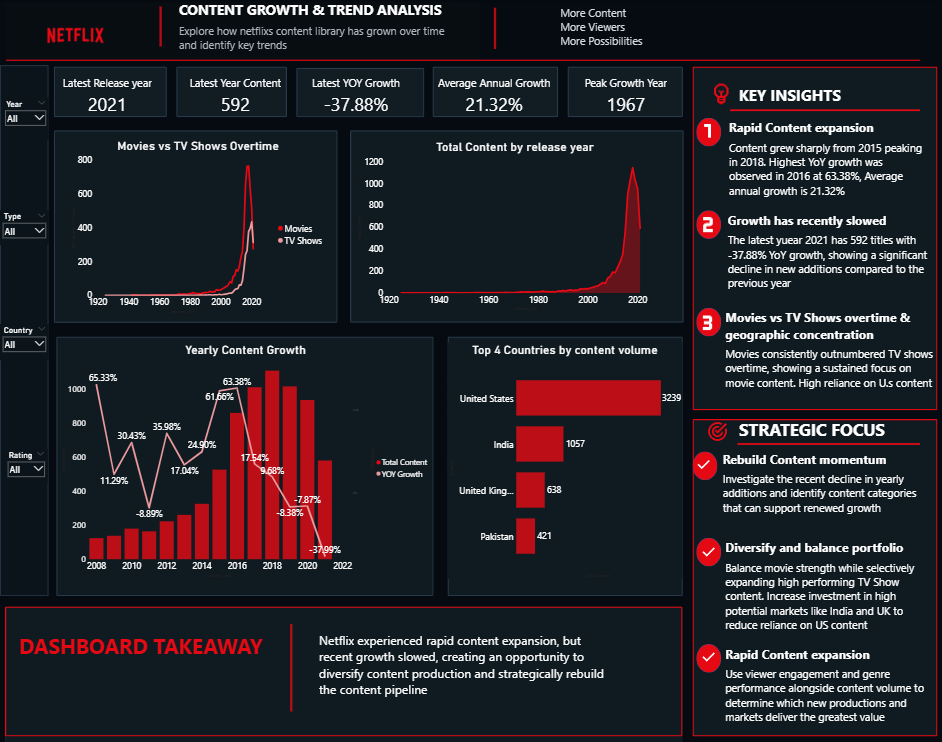

The dashboard page shown, as its layout file describes it:
{"tool":"powerbi","page":{"name":"Task 3","canvas":[2950,1450],"ordinal":1},"visuals":[{"type":"shape","box":[18.1,10.1,1656.8,205.1],"z":0},{"type":"shape","box":[0,227.7,167.6,1220.7],"z":1000},{"type":"shape","box":[189.8,234,452.2,170.8],"z":2000},{"type":"shape","box":[189.8,430.1,2163.2,594.6],"z":3000},{"type":"shape","box":[189.8,1046.8,2710.3,376.3],"z":4000},{"type":"shape","box":[2381.4,430.1,518.7,594.6],"z":5000},{"type":"shape","box":[746.4,234,483.9,170.8],"z":6000},{"type":"shape","box":[1334.6,237.2,490.2,167.6],"z":7000},{"type":"shape","box":[1929.1,234,445.9,170.8],"z":8000},{"type":"shape","box":[2479.4,237.2,408,167.6],"z":9000},{"type":"shape","box":[19,164.5,2868.4,101.2],"z":10000},{"type":"image","box":[0,0,328.9,215.1],"z":11000},{"type":"textbox","box":[357.7,31.7,1158.7,164.6],"z":12000},{"type":"textbox","box":[1693.8,25.3,516,167.8],"z":13000},{"type":"shape","box":[207.5,25.9,242.9,141.5],"z":14000},{"type":"shape","box":[1478.5,25.3,240.6,142.5],"z":15000},{"type":"cardVisual","fields":{"Data":["Keymetrics.Total Content"]},"box":[303.6,230.9,259.3,158.1],"z":16000},{"type":"cardVisual","fields":{"Data":["Keymetrics.Movies"]},"box":[828.6,227.7,313.1,164.5],"z":17000},{"type":"cardVisual","fields":{"Data":["Keymetrics.TV Shows"]},"box":[1413.7,230.9,262.5,158.1],"z":18000},{"type":"cardVisual","fields":{"Data":["Keymetrics.Countries"]},"box":[1992.4,230.9,262.5,158.1],"z":19000},{"type":"cardVisual","fields":{"Data":["Keymetrics.Total Directors"]},"box":[2574.3,234,265.7,155],"z":20000},{"type":"tableEx","title":"Top  Countries","fields":{"Values":["Dataset.country","Keymetrics.Total Content"]},"box":[2381.4,449.1,506,575.6],"z":21000},{"type":"slicer","fields":{"Values":["Dataset.release_year"]},"box":[6.5,344.2,137.2,122],"z":22000},{"type":"slicer","fields":{"Values":["Dataset.Content Type"]},"box":[0,619.9,142.3,123.3],"z":23000},{"type":"slicer","fields":{"Values":["Dataset.rating"]},"box":[0,888.7,148.6,123.3],"z":24000},{"type":"image","box":[1378.9,253,79.1,94.9],"z":25000},{"type":"image","box":[759,262.5,148.6,85.4],"z":26000},{"type":"image","box":[227.7,262.5,79.1,82.2],"z":27000},{"type":"image","box":[1951.3,275.1,88.6,75.9],"z":28000},{"type":"image","box":[2501.6,268.8,98,79.1],"z":29000},{"type":"filledMap","title":"Content by Country (Global view)","fields":{"Category":["Dataset.Country"]},"box":[227.7,430.1,1688.8,581.9],"z":30000},{"type":"shape","box":[1992.4,676.8,41.1,19],"z":31000},{"type":"shape","box":[1992.4,619.9,41.1,19],"z":32000},{"type":"shape","box":[1992.4,600.9,41.1,19],"z":33000},{"type":"shape","box":[1992.4,581.9,41.1,19],"z":34000},{"type":"shape","box":[1992.4,562.9,41.1,22.1],"z":35000},{"type":"shape","box":[1992.4,553.4,41.1,19],"z":36000},{"type":"shape","box":[1992.4,534.5,41.1,19],"z":37000},{"type":"shape","box":[1992.4,638.8,41.1,19],"z":38000},{"type":"shape","box":[1992.4,657.8,41.1,19],"z":39000},{"type":"shape","box":[1992.4,695.8,41.1,22.1],"z":40000},{"type":"shape","box":[1992.4,717.9,41.1,19],"z":41000},{"type":"shape","box":[1992.4,736.9,41.1,19],"z":42000},{"type":"shape","box":[1992.4,755.8,41.1,19],"z":43000},{"type":"shape","box":[1992.4,774.8,41.1,19],"z":44000},{"type":"shape","box":[1992.4,910.8,41.1,19],"z":45000},{"type":"textbox","box":[1922.8,449.1,183.4,113.9],"z":46000},{"type":"textbox","box":[2099.9,525,186.6,113.9],"z":47000},{"type":"textbox","box":[2099.9,765.3,202.4,72.7],"z":48000},{"type":"textbox","box":[2065.1,888.7,208.7,104.4],"z":49000},{"type":"textbox","box":[319.4,1053.1,278.3,117],"z":50000},{"type":"textbox","box":[392.2,1135.3,468.1,287.8],"z":51000},{"type":"textbox","box":[1034.1,1135.3,509.2,287.8],"z":52000},{"type":"textbox","box":[1676.1,1110,480.7,338.4],"z":53000},{"type":"textbox","box":[2318.1,1113.2,575.6,306.8],"z":54000},{"type":"shape","box":[828.6,1094.2,243.5,262.5],"z":55000},{"type":"shape","box":[2084.1,1091.1,243.5,265.7],"z":56000},{"type":"shape","box":[1473.7,1094.2,243.5,262.5],"z":57000},{"type":"image","box":[234,1046.8,98,104.4],"z":58000},{"type":"image","box":[322.6,1113.2,69.6,104.4],"z":59000},{"type":"image","box":[951.9,1129,82.2,82.2],"z":60000},{"type":"image","box":[2229.6,1113.2,88.6,88.6],"z":61000},{"type":"image","box":[1600.2,1113.2,88.6,88.6],"z":62000}]}

Visuals, with their boxes on the page's 2950x1450 design canvas (x1, y1, x2, y2). These are canvas units, not pixel positions in the 942x742 screenshot, which may show the page scaled, cropped or inside an application window:
shape: crop(18, 10, 1675, 215)
shape: crop(0, 228, 168, 1448)
shape: crop(190, 234, 642, 405)
shape: crop(190, 430, 2353, 1025)
shape: crop(190, 1047, 2900, 1423)
shape: crop(2381, 430, 2900, 1025)
shape: crop(746, 234, 1230, 405)
shape: crop(1335, 237, 1825, 405)
shape: crop(1929, 234, 2375, 405)
shape: crop(2479, 237, 2887, 405)
shape: crop(19, 164, 2887, 266)
image: crop(0, 0, 329, 215)
textbox: crop(358, 32, 1516, 196)
textbox: crop(1694, 25, 2210, 193)
shape: crop(208, 26, 450, 167)
shape: crop(1478, 25, 1719, 168)
cardVisual - Keymetrics.Total Content: crop(304, 231, 563, 389)
cardVisual - Keymetrics.Movies: crop(829, 228, 1142, 392)
cardVisual - Keymetrics.TV Shows: crop(1414, 231, 1676, 389)
cardVisual - Keymetrics.Countries: crop(1992, 231, 2255, 389)
cardVisual - Keymetrics.Total Directors: crop(2574, 234, 2840, 389)
"Top  Countries" tableEx: crop(2381, 449, 2887, 1025)
slicer - Dataset.release_year: crop(6, 344, 144, 466)
slicer - Dataset.Content Type: crop(0, 620, 142, 743)
slicer - Dataset.rating: crop(0, 889, 149, 1012)
image: crop(1379, 253, 1458, 348)
image: crop(759, 262, 908, 348)
image: crop(228, 262, 307, 345)
image: crop(1951, 275, 2040, 351)
image: crop(2502, 269, 2600, 348)
"Content by Country (Global view)" filledMap: crop(228, 430, 1916, 1012)
shape: crop(1992, 677, 2034, 696)
shape: crop(1992, 620, 2034, 639)
shape: crop(1992, 601, 2034, 620)
shape: crop(1992, 582, 2034, 601)
shape: crop(1992, 563, 2034, 585)
shape: crop(1992, 553, 2034, 572)
shape: crop(1992, 534, 2034, 554)
shape: crop(1992, 639, 2034, 658)
shape: crop(1992, 658, 2034, 677)
shape: crop(1992, 696, 2034, 718)
shape: crop(1992, 718, 2034, 737)
shape: crop(1992, 737, 2034, 756)
shape: crop(1992, 756, 2034, 775)
shape: crop(1992, 775, 2034, 794)
shape: crop(1992, 911, 2034, 930)
textbox: crop(1923, 449, 2106, 563)
textbox: crop(2100, 525, 2286, 639)
textbox: crop(2100, 765, 2302, 838)
textbox: crop(2065, 889, 2274, 993)
textbox: crop(319, 1053, 598, 1170)
textbox: crop(392, 1135, 860, 1423)
textbox: crop(1034, 1135, 1543, 1423)
textbox: crop(1676, 1110, 2157, 1448)
textbox: crop(2318, 1113, 2894, 1420)
shape: crop(829, 1094, 1072, 1357)
shape: crop(2084, 1091, 2328, 1357)
shape: crop(1474, 1094, 1717, 1357)
image: crop(234, 1047, 332, 1151)
image: crop(323, 1113, 392, 1218)
image: crop(952, 1129, 1034, 1211)
image: crop(2230, 1113, 2318, 1202)
image: crop(1600, 1113, 1689, 1202)
